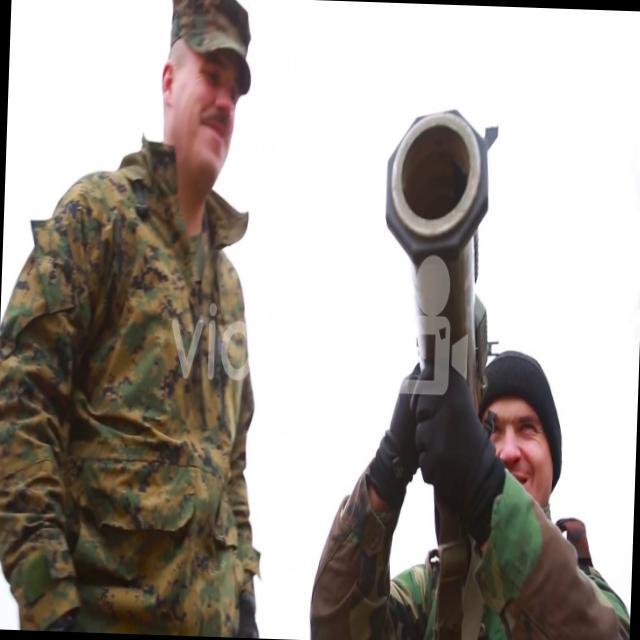rocket: (371, 107, 496, 414)
